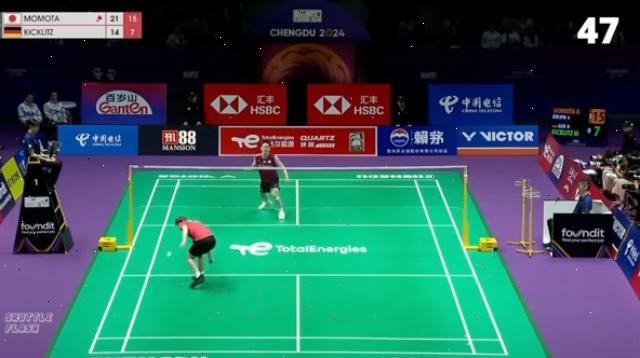Shuttlecock: (165, 249, 175, 259)
